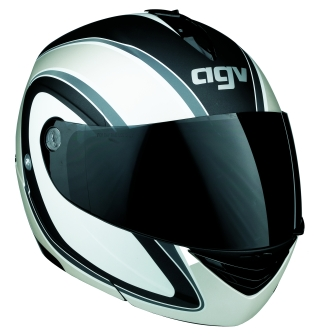helmet: (13, 24, 309, 305)
